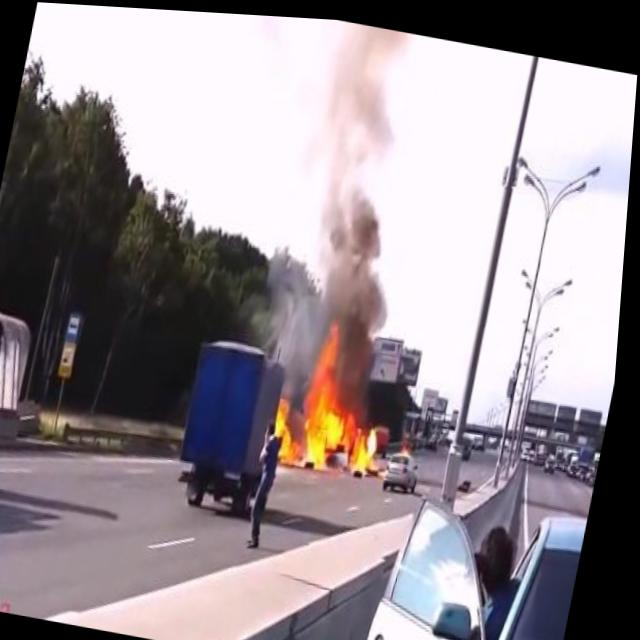fire: (274, 314, 407, 477)
